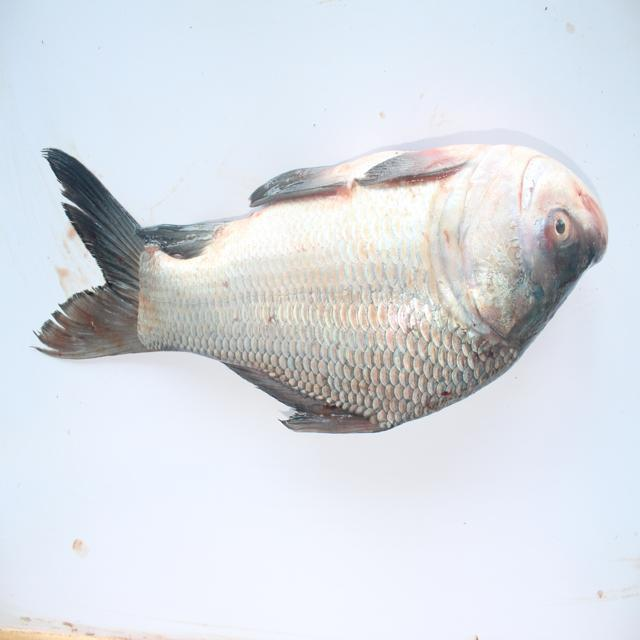Catla: (27, 132, 608, 441)
